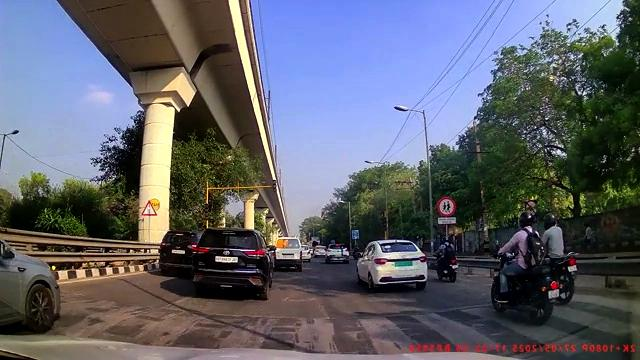motorcycle_with_helmet: (490, 210, 561, 326), (542, 212, 578, 304), (435, 235, 459, 283)
